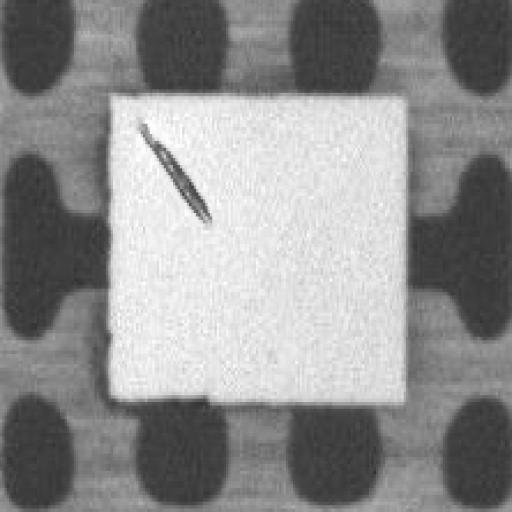DIE_INK: (129, 114, 210, 224)
